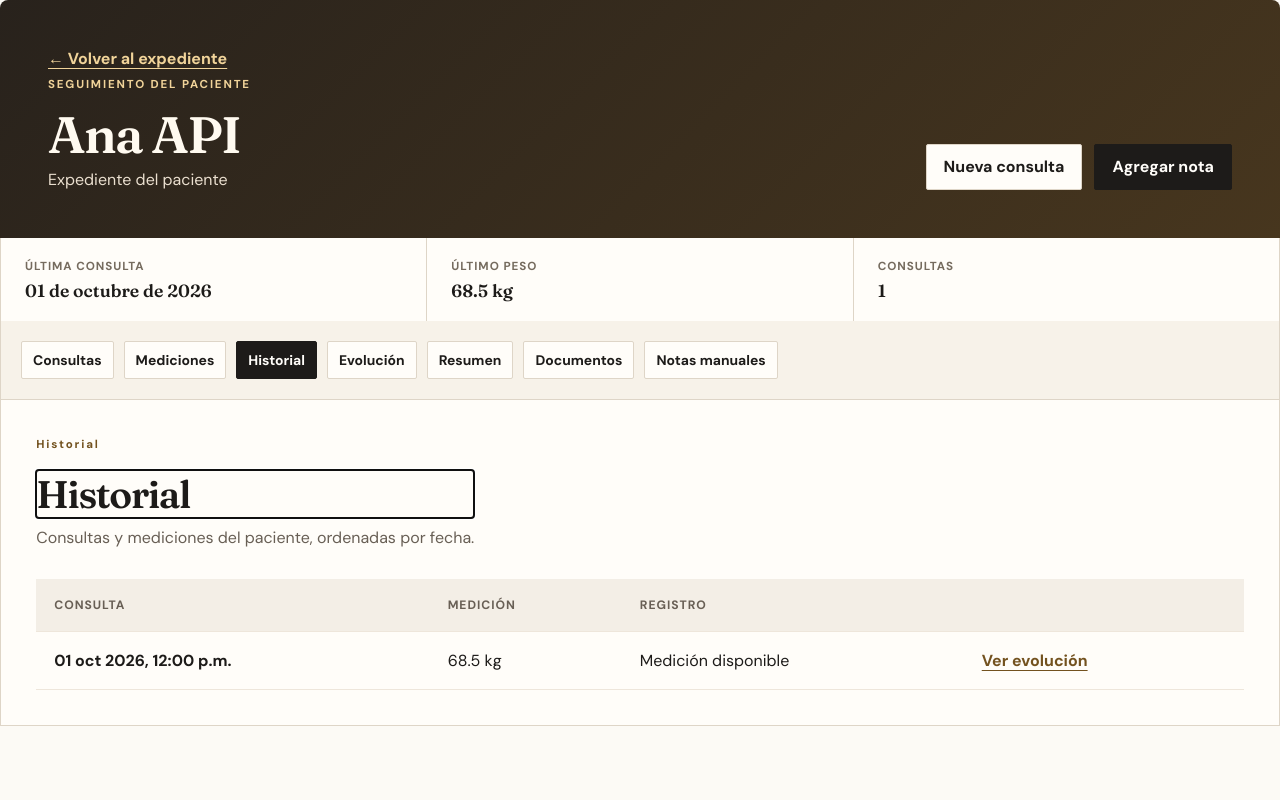
Scenario: seguimiento conectado a API › reintenta la misma solicitud fallida y muestra una respuesta recuperada
Check: the text "Medición disponible" is shown, box [622,631,964,689]
Click the button "Resumen" at (470, 360), box [427,341,513,379]
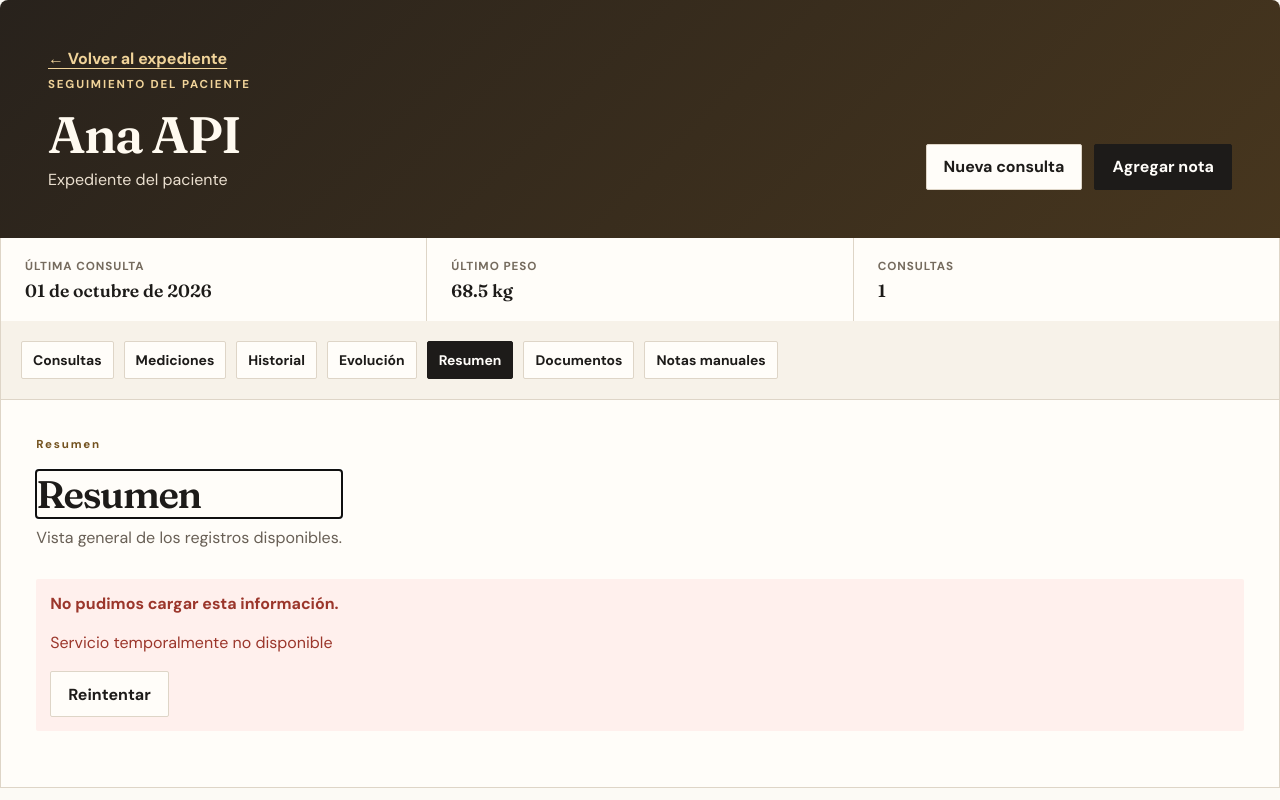
Check: the message is shown, box [36,579,1244,731]
Click the button "Reintentar" at (110, 694), box [50,671,169,717]
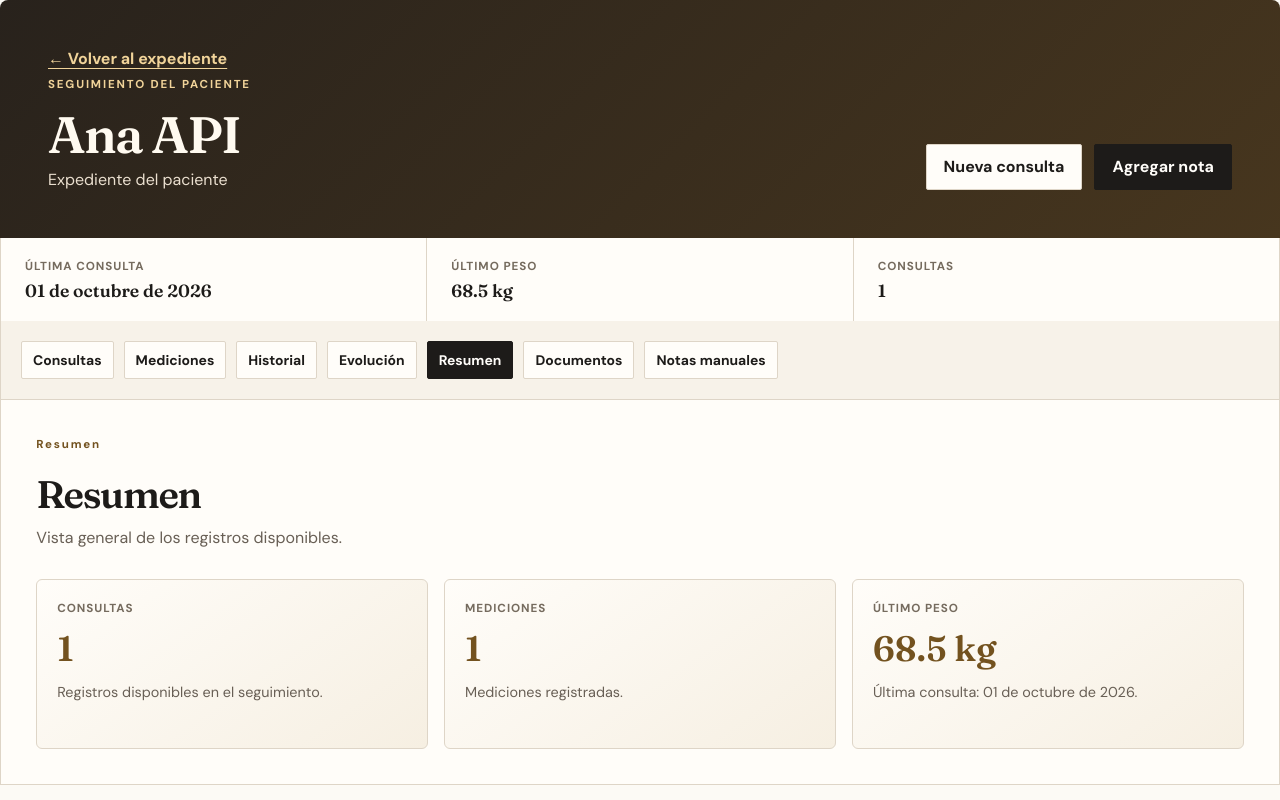
Check: the text "Registros disponibles en el seguimiento." is shown, box [57,683,323,701]
